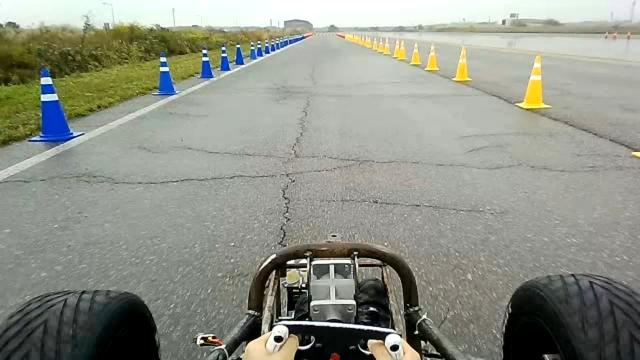blue cone: (27, 66, 84, 143), (151, 51, 180, 96), (197, 47, 214, 78), (217, 44, 231, 71), (234, 43, 245, 65), (249, 40, 257, 60), (256, 40, 264, 57), (264, 39, 270, 54)
yellow cone: (514, 55, 552, 109), (452, 46, 472, 82), (424, 43, 440, 71), (409, 42, 422, 66), (397, 39, 407, 60), (392, 38, 401, 58)
